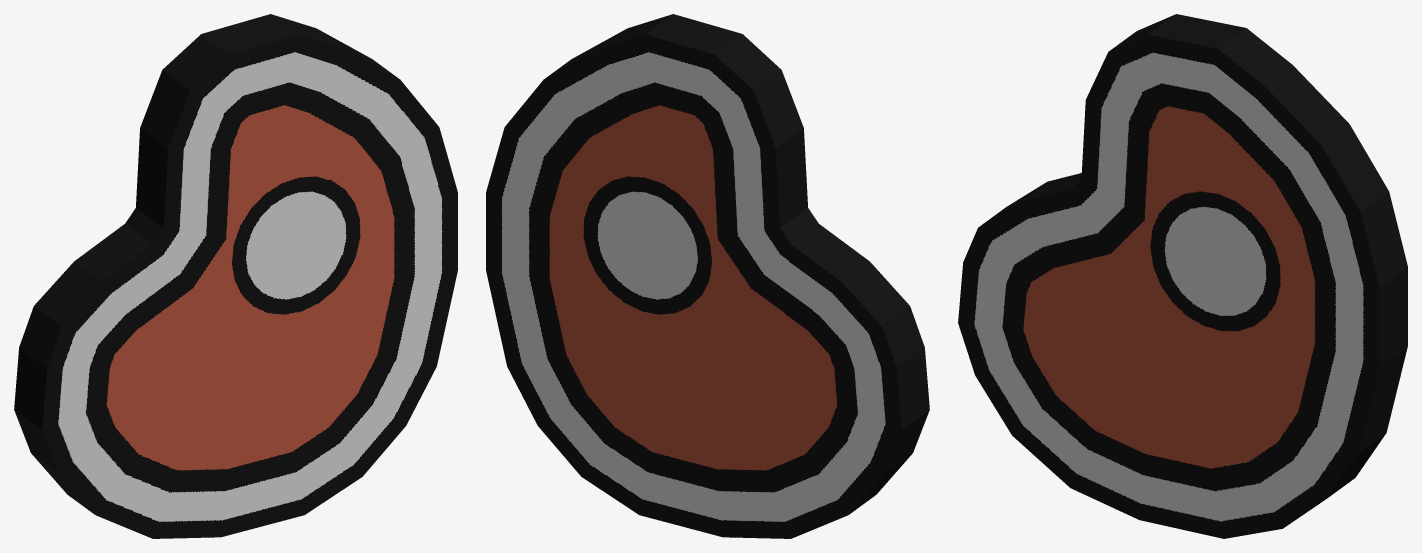
File: Steak.fbx
The picture shows the model from 3 angles, left to right: view 1: azimuth 30°, elevation 25°; view 2: azimuth 150°, elevation 25°; view 3: azimuth 330°, elevation 25°; orthographic projection.
Visible parts, largest first — view 1: Steak; view 2: Steak; view 3: Steak.
Boxes of the visible parts, x1,y1,x2,y2 form: Steak: [14, 14, 457, 538]; Steak: [486, 14, 929, 538]; Steak: [958, 14, 1407, 538].
Size of the model in its own units: 250 by 278 by 29.3.
1 material, 1 textured.
